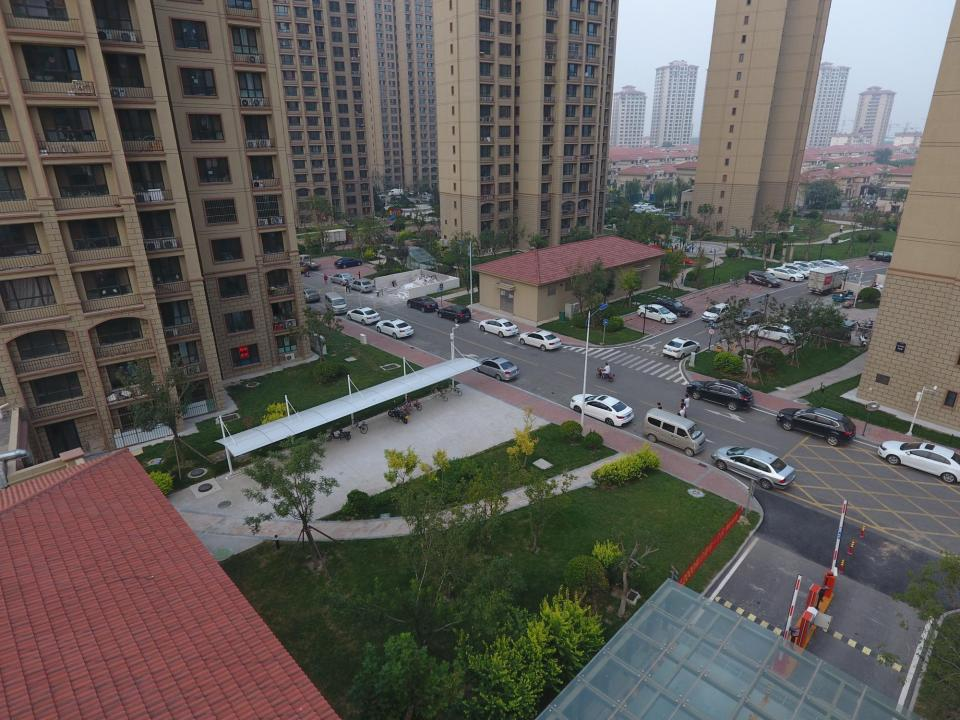car: (878, 439, 960, 483), (712, 446, 795, 489), (878, 440, 960, 483), (776, 406, 856, 446), (686, 378, 754, 412), (570, 393, 634, 426), (473, 356, 520, 381), (748, 324, 802, 344), (519, 330, 561, 351), (662, 337, 700, 360), (636, 304, 677, 324), (376, 318, 414, 339), (479, 318, 518, 337), (654, 298, 693, 316), (745, 270, 782, 288), (438, 304, 472, 323), (346, 306, 380, 325), (765, 266, 804, 282), (735, 307, 766, 326), (701, 302, 730, 322), (780, 262, 811, 278), (407, 296, 438, 312), (290, 287, 321, 303), (816, 259, 850, 273), (870, 251, 904, 264), (794, 260, 821, 276), (805, 260, 834, 274), (348, 279, 374, 293), (330, 273, 355, 286), (334, 257, 362, 268), (375, 235, 393, 244), (389, 223, 405, 232), (422, 229, 438, 238), (363, 236, 379, 244), (406, 190, 420, 196), (644, 208, 658, 214), (634, 209, 649, 214), (647, 207, 662, 212), (373, 200, 385, 206), (634, 202, 646, 208), (641, 203, 655, 208), (422, 197, 432, 202), (373, 190, 381, 196)
truck: (807, 266, 849, 296), (321, 228, 352, 246), (297, 254, 321, 270)
van: (642, 407, 705, 457), (325, 292, 347, 316), (387, 188, 404, 195), (375, 195, 385, 202), (423, 192, 428, 198)
